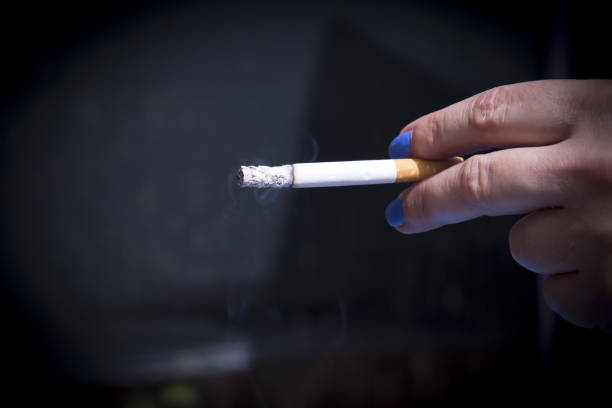cigarette: (233, 157, 441, 190)
